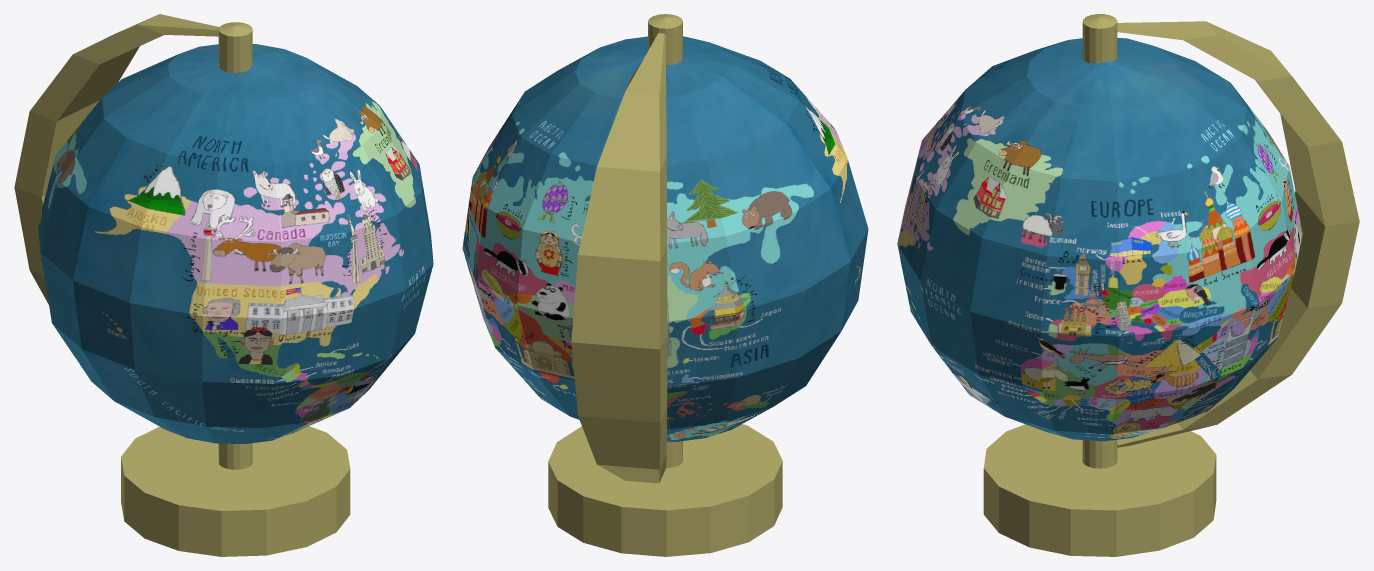
Rendered from Globus.glb.
The picture shows the model from 3 angles, left to right: view 1: azimuth 30°, elevation 25°; view 2: azimuth 150°, elevation 25°; view 3: azimuth 270°, elevation 25°; orthographic projection.
Visible parts, largest first — view 1: Sphere; view 2: Sphere; view 3: Sphere.
Boxes of the visible parts, left/top/right/bottom form: Sphere: left=14, top=14, right=433, bottom=556; Sphere: left=462, top=14, right=868, bottom=556; Sphere: left=897, top=14, right=1359, bottom=556.
Size of the model in its own units: 0.1798 by 0.2403 by 0.2054.
Materials: 2 (1 with a texture image).
